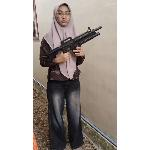Senapan: (45, 23, 108, 62)
